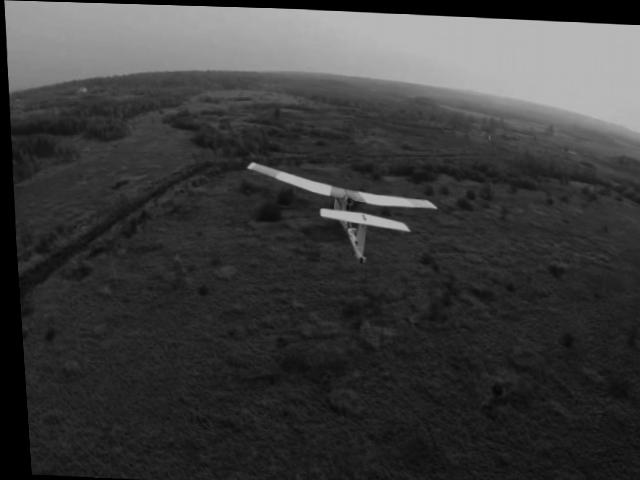hedef: (236, 150, 440, 269)
